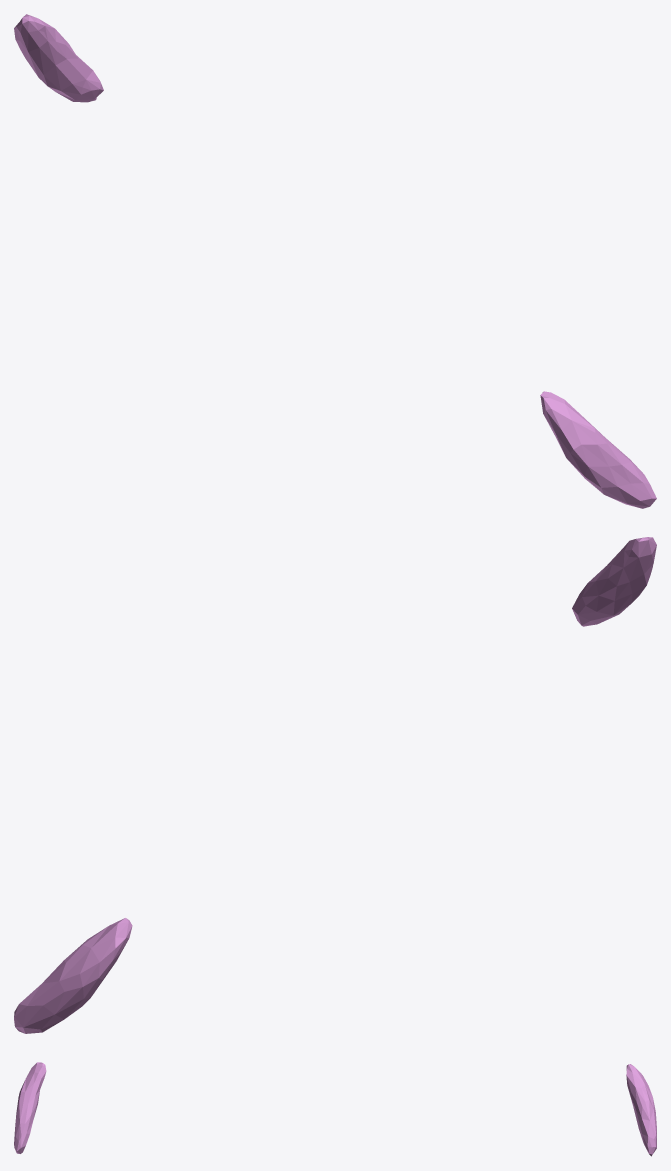
The picture shows the model from 3 angles, top to bottom: view 1: azimuth 30°, elevation 25°; view 2: azimuth 150°, elevation 25°; view 3: azimuth 270°, elevation 25°; orthographic projection. The views are drawn at different scales.
Visible parts, largest first — view 1: 874.obj; view 2: 874.obj; view 3: 874.obj.
Part boxes in pixels (<box>): 874.obj: <box>14,14,656,508</box>; 874.obj: <box>14,537,656,1033</box>; 874.obj: <box>14,1062,656,1156</box>.
Size of the model in its own units: 457 by 534 by 4464.
